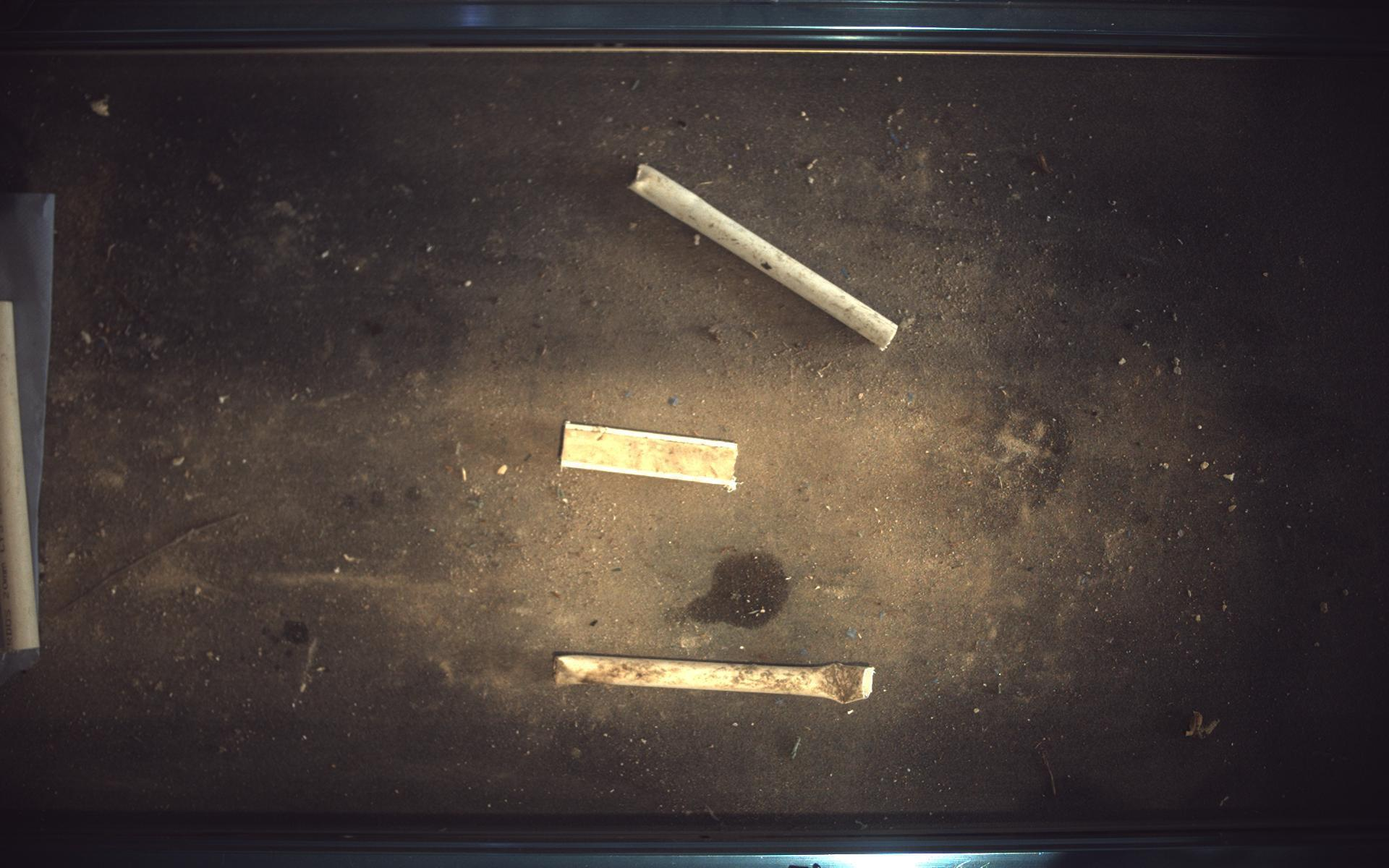pipes: (630, 163, 900, 350), (555, 655, 877, 705)
plastic: (561, 421, 739, 491)
